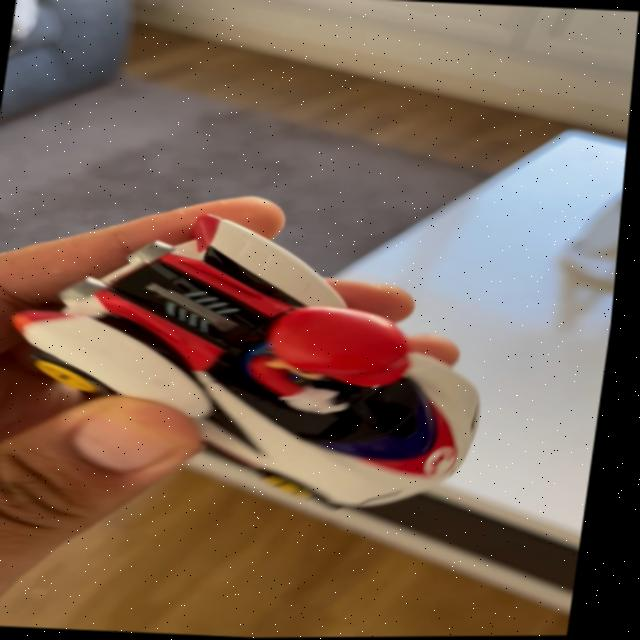mario: (0, 195, 553, 549)
